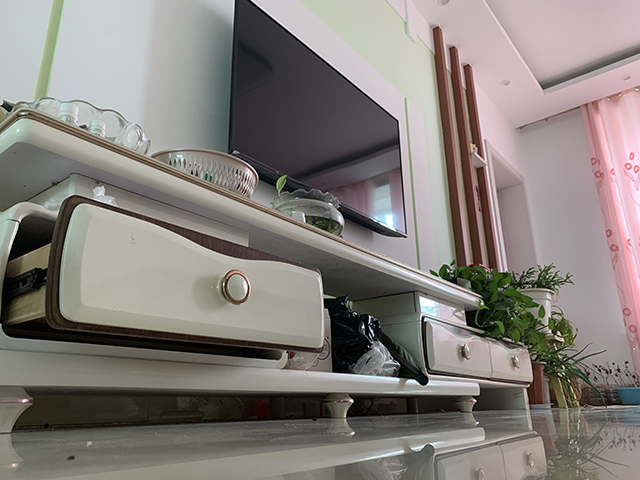cabinet: (1, 106, 536, 435)
